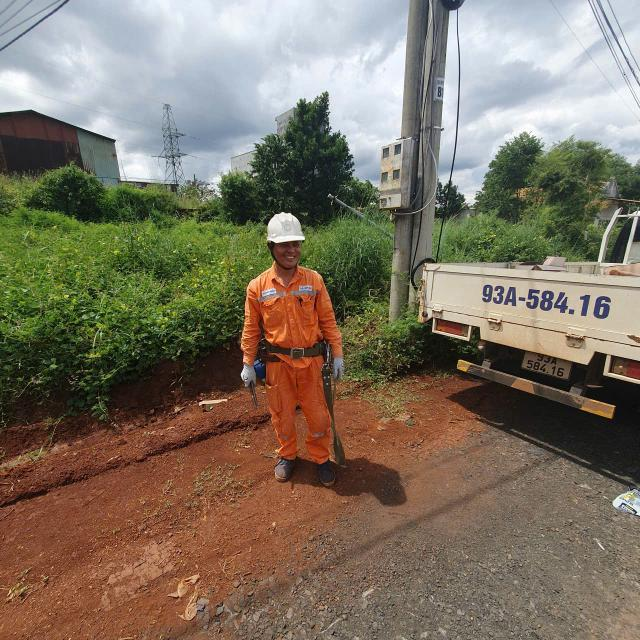gloves: (323, 351, 354, 392), (236, 364, 259, 394)
harness: (258, 339, 337, 364)
helmet: (260, 207, 313, 266)
shoes: (306, 453, 339, 493), (269, 448, 299, 488)
